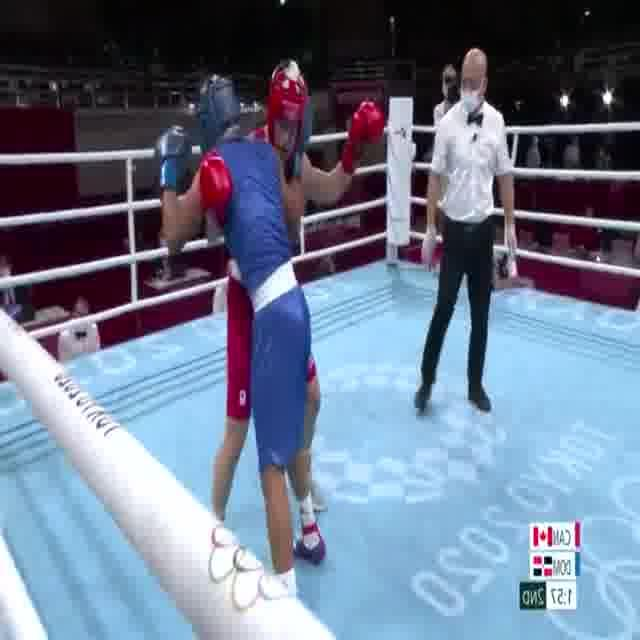blue-player: (151, 68, 328, 616)
red-player: (199, 57, 390, 571)
referee: (411, 44, 518, 418)
